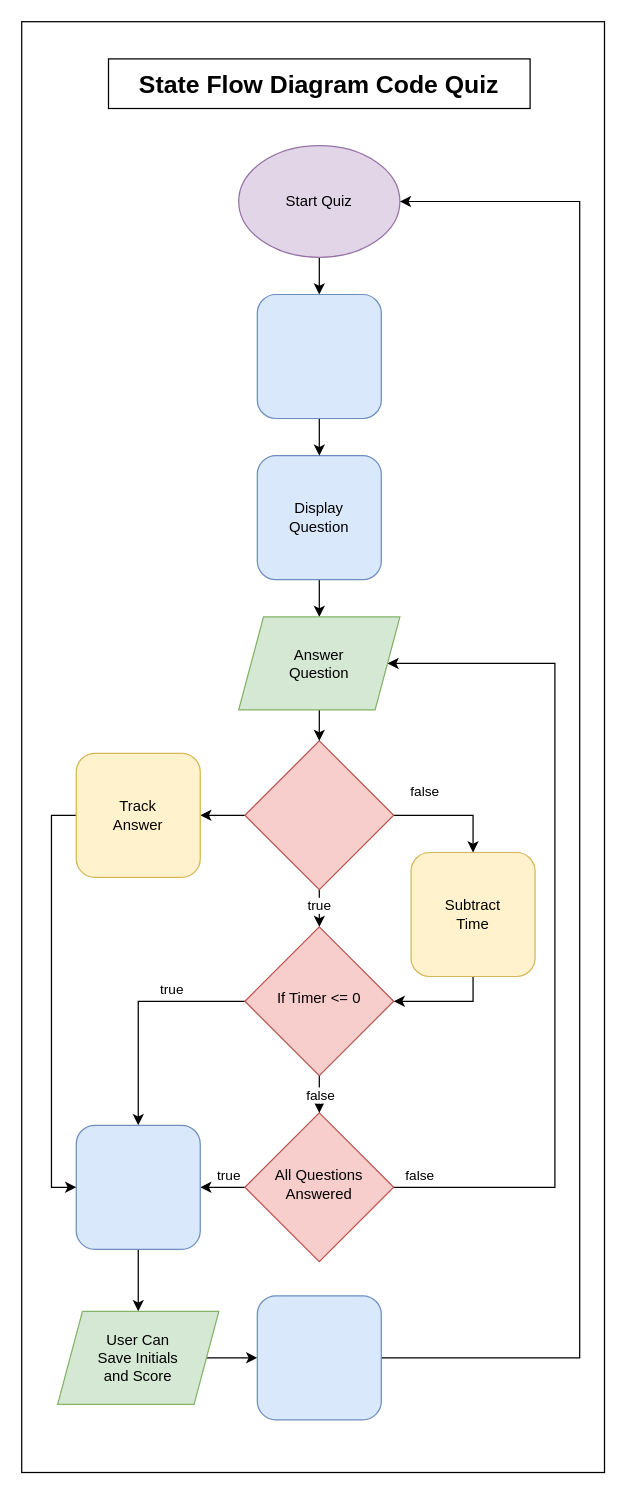
This 626x1494 diagram has some shape labels left out. The shapes that lost their labels are listed below. From the top down, each one's centre as x and y in pixels, then its label:
point 318,355: Start / Display Timer
point 319,815: Check Answer
point 137,1186: GAME OVER: Display Final Result
point 318,1357: Update High Score Board
